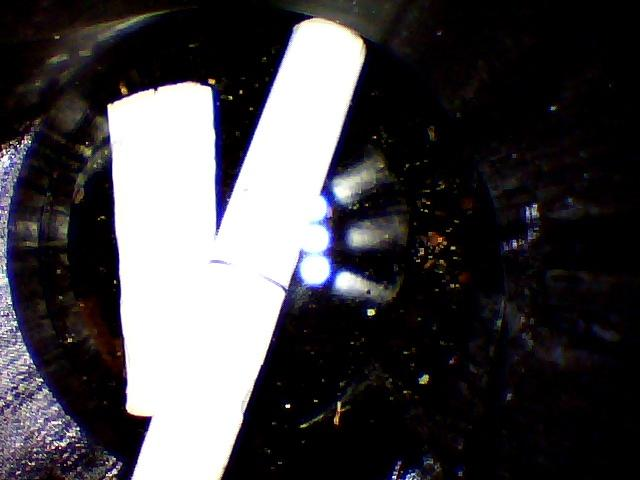megot: (126, 15, 375, 480), (99, 75, 226, 423)
